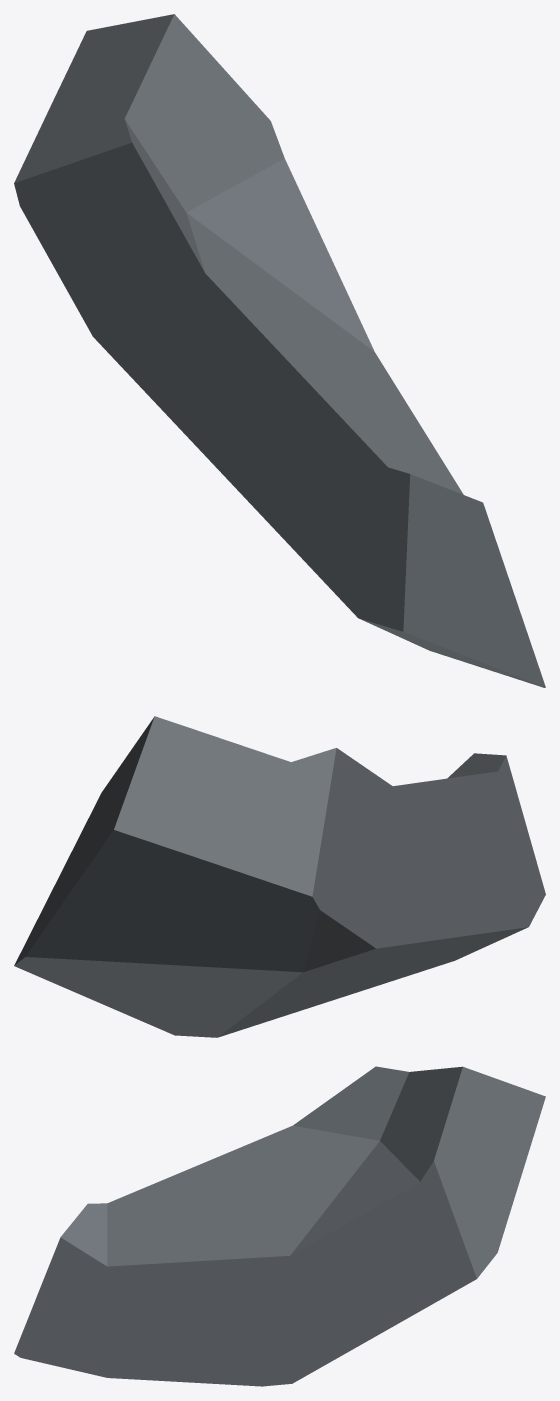
The model's file is Sphere_Fracture_13.DAE.
3 views of the same model, one above another, from view 1: azimuth 30°, elevation 25°; view 2: azimuth 150°, elevation 25°; view 3: azimuth 270°, elevation 25° (orthographic). The views are drawn at different scales.
Visible parts, largest first — view 1: Sphere_Fracture_13; view 2: Sphere_Fracture_13; view 3: Sphere_Fracture_13.
Boxes of the visible parts, <box> form: Sphere_Fracture_13: <box>14,14,545,687</box>; Sphere_Fracture_13: <box>14,716,545,1037</box>; Sphere_Fracture_13: <box>14,1066,545,1386</box>.
Size of the model in its own units: 0.3904 by 0.5914 by 0.9758.
Materials: 2 (2 with a texture image).
